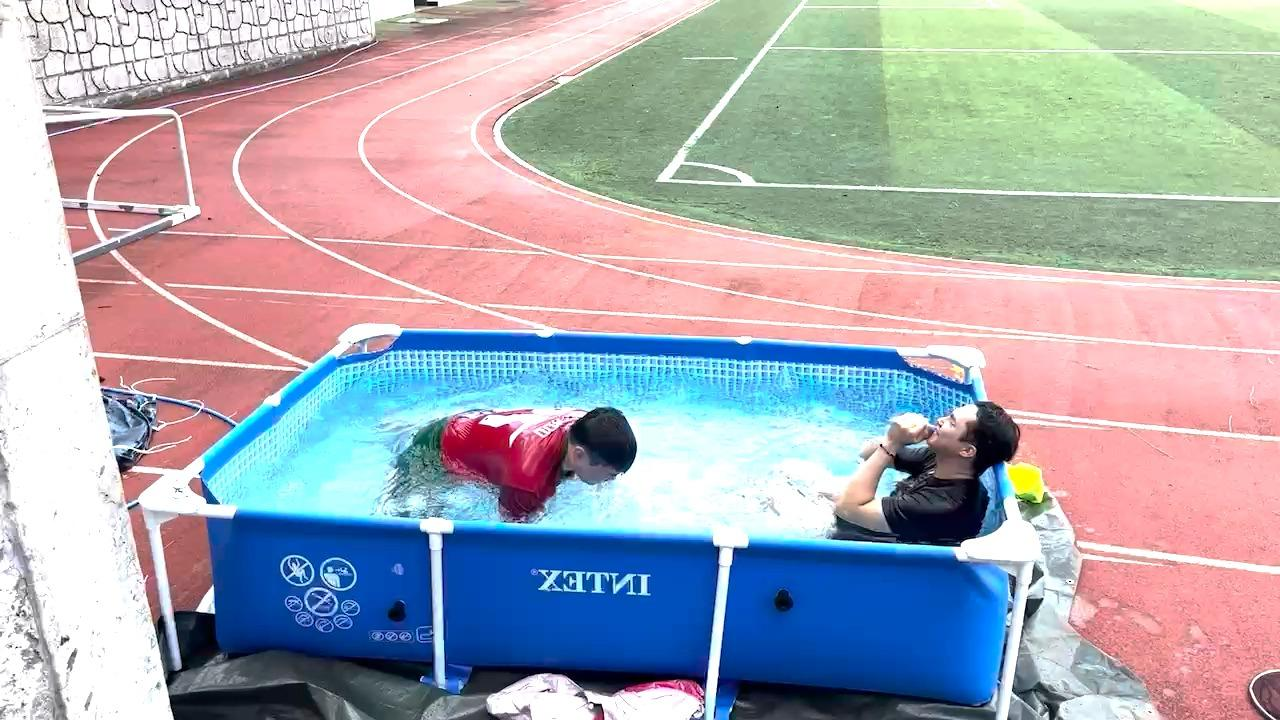Drowning: (353, 383, 641, 509)
